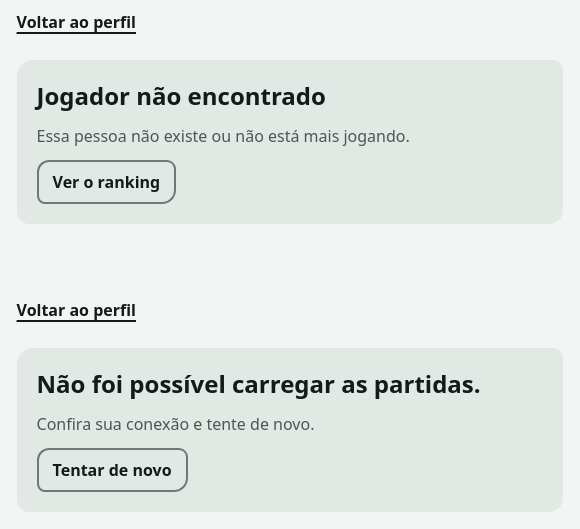
Test case: histórico › 404 do histórico sem toast; 500 com toast e Tentar de novo
Click the button "Tentar de novo". click: x=112, y=470
box: [37,448,188,492]
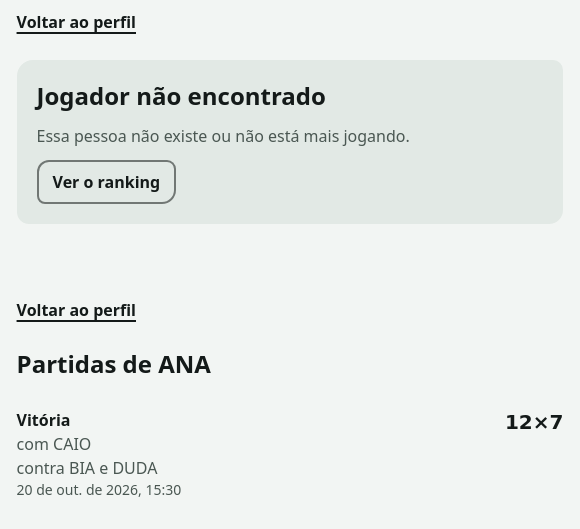
Check: the number of list items with test id "partida" is 1, box [17,396,564,512]
